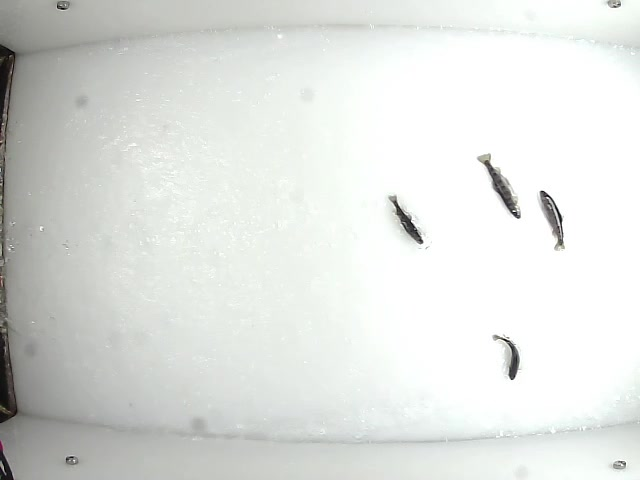fish: (473, 152, 523, 220), (387, 192, 424, 250), (537, 188, 569, 255), (492, 332, 526, 382)
